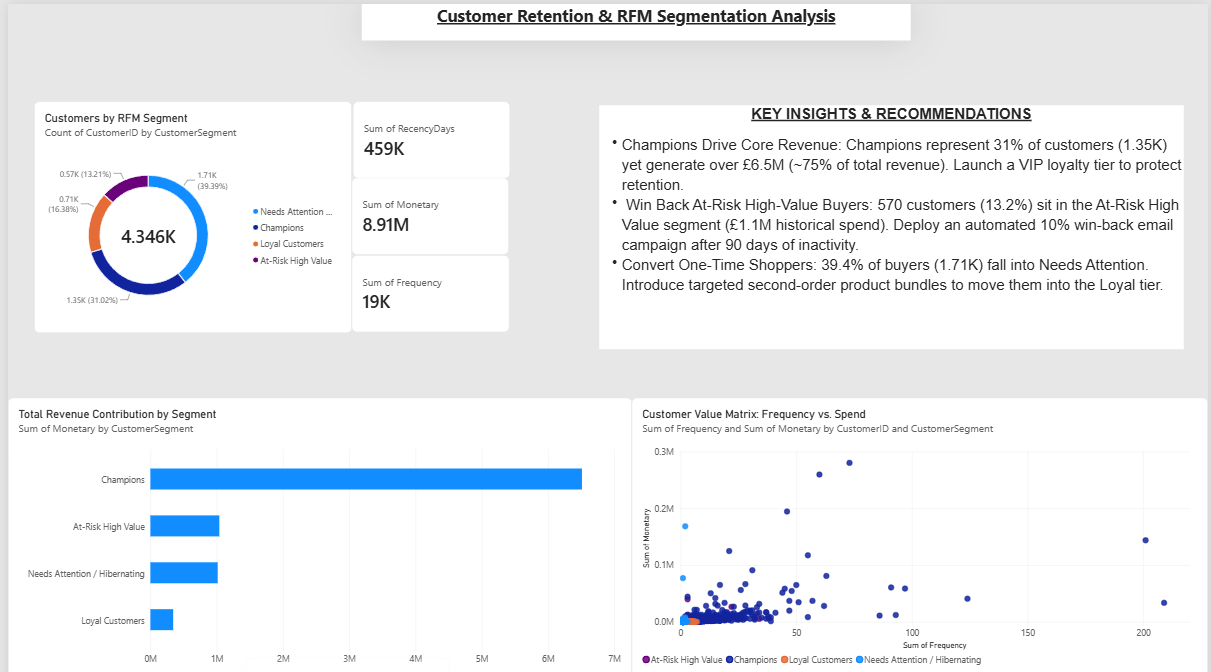

The page's visual inventory and layout, read from the dashboard file:
{"tool":"powerbi","page":{"name":"Customer Retention & RFM","canvas":[1920,1080],"ordinal":1},"visuals":[{"type":"textbox","box":[566.7,0,878.3,58.3],"z":0},{"type":"cardVisual","fields":{"Data":["Sum(retail_project customer_rfm.RecencyDays)"]},"box":[551.7,155,251.7,123.3],"z":1000},{"type":"cardVisual","fields":{"Data":["Sum(retail_project customer_rfm.Frequency)"]},"box":[550,401.7,252,123],"z":2000},{"type":"cardVisual","fields":{"Data":["Sum(retail_project customer_rfm.Monetary)"]},"box":[550,278.3,251.7,123.3],"z":3000},{"type":"donutChart","title":"Customers by RFM Segment","fields":{"Category":["retail_project customer_rfm.CustomerSegment"],"Y":["CountNonNull(retail_project customer_rfm.CustomerID)"]},"box":[41.7,155,508.3,370],"z":4000},{"type":"clusteredBarChart","title":"Total Revenue Contribution by Segment","fields":{"Category":["retail_project customer_rfm.CustomerSegment"],"Y":["Sum(retail_project customer_rfm.Monetary)"]},"box":[0,630,998.3,450],"z":5000},{"type":"scatterChart","title":"Customer Value Matrix: Frequency vs. Spend","fields":{"Category":["retail_project customer_rfm.CustomerID"],"Series":["retail_project customer_rfm.CustomerSegment"],"X":["Sum(retail_project customer_rfm.Frequency)"],"Y":["Sum(retail_project customer_rfm.Monetary)"]},"box":[998.3,630,921.7,450],"z":6000},{"type":"textbox","box":[802,402,643,150],"z":6001},{"type":"textbox","box":[946.7,161.7,935,390],"z":6002}]}

Visuals, with their boxes in screenshot pixels (x1, y1, x2, y2), scaled from the page's 1920x1080 canvas onto the 1211x672 screenshot:
textbox: rect(357, 0, 911, 36)
cardVisual - Sum(retail_project customer_rfm.RecencyDays): rect(348, 96, 507, 173)
cardVisual - Sum(retail_project customer_rfm.Frequency): rect(347, 250, 506, 326)
cardVisual - Sum(retail_project customer_rfm.Monetary): rect(347, 173, 506, 250)
"Customers by RFM Segment" donutChart: rect(26, 96, 347, 327)
"Total Revenue Contribution by Segment" clusteredBarChart: rect(0, 392, 630, 671)
"Customer Value Matrix: Frequency vs. Spend" scatterChart: rect(630, 392, 1210, 671)
textbox: rect(506, 250, 911, 343)
textbox: rect(597, 101, 1187, 343)
